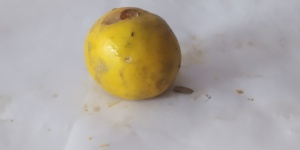BAD: (85, 5, 181, 100)
